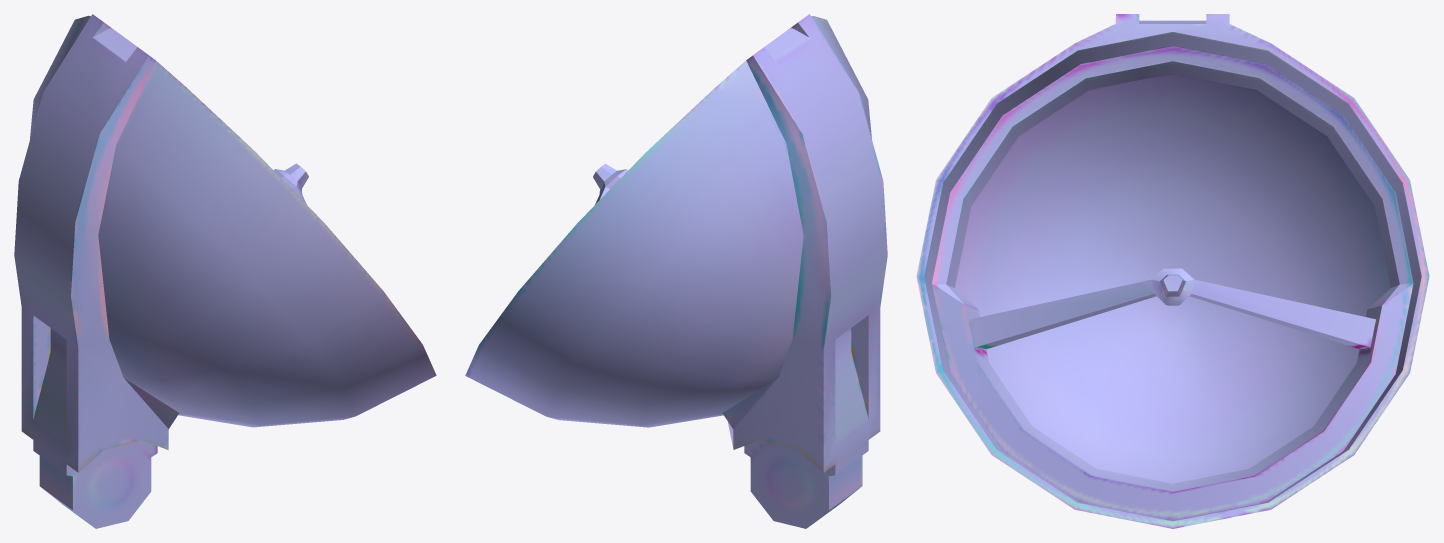
The model's file is Starport_radar.fbx.
3 renders of one model, left to right at view 1: azimuth 30°, elevation 25°; view 2: azimuth 150°, elevation 25°; view 3: azimuth 270°, elevation 25°, orthographic.
Visible parts, largest first — view 1: Starport_radar; view 2: Starport_radar; view 3: Starport_radar.
Boxes of the visible parts, x1,y1,x2,y2 form: Starport_radar: [14, 14, 436, 528]; Starport_radar: [465, 14, 887, 528]; Starport_radar: [916, 14, 1429, 528].
Size of the model in its own units: 74.89 by 98.99 by 97.27.
